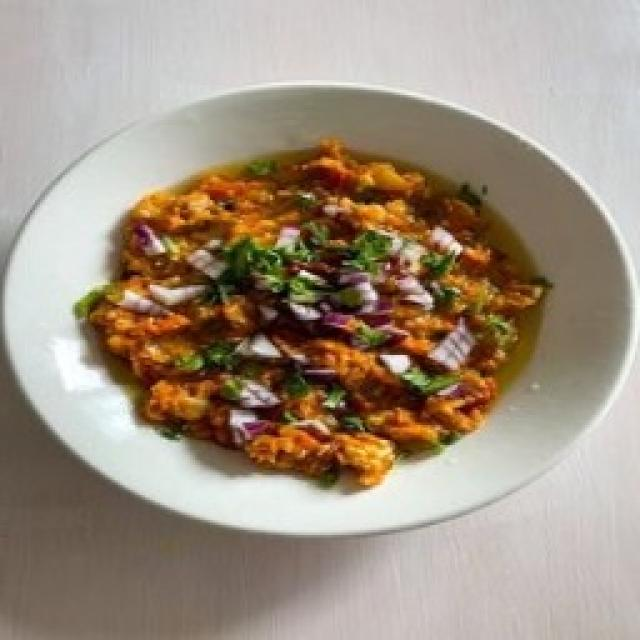Kafteji: (76, 140, 544, 487)
